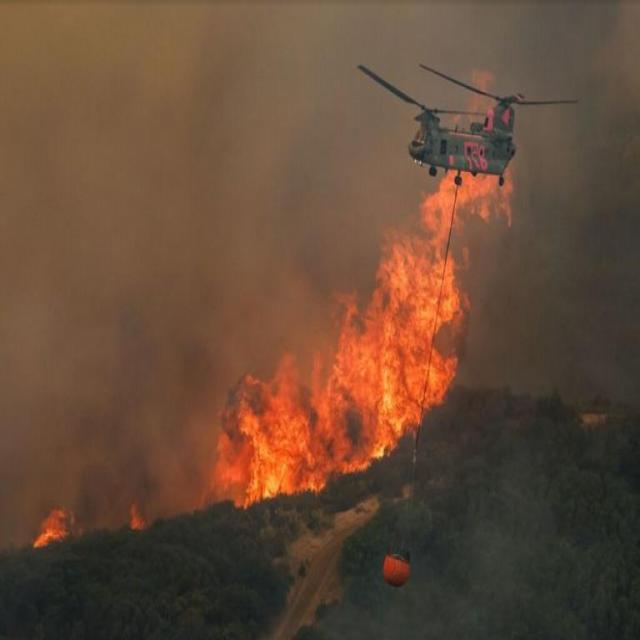fire: (205, 201, 463, 510)
